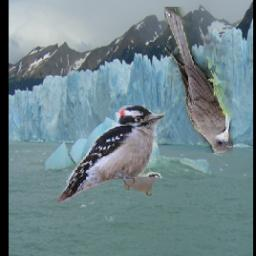Cuckoo: (164, 8, 233, 154)
Woodpecker: (58, 106, 166, 205)
